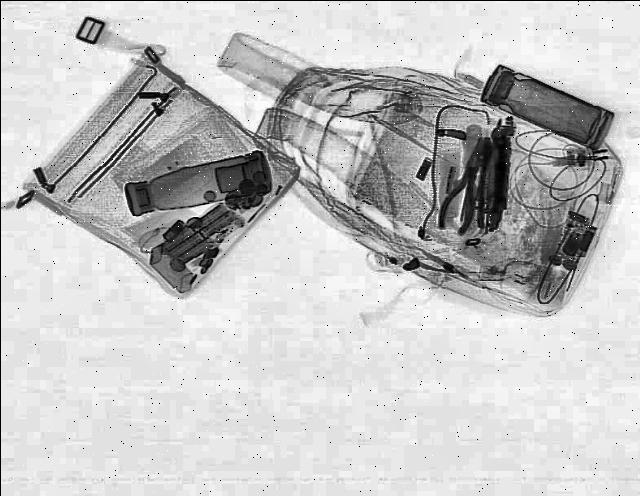Pliers: (432, 138, 501, 236)
